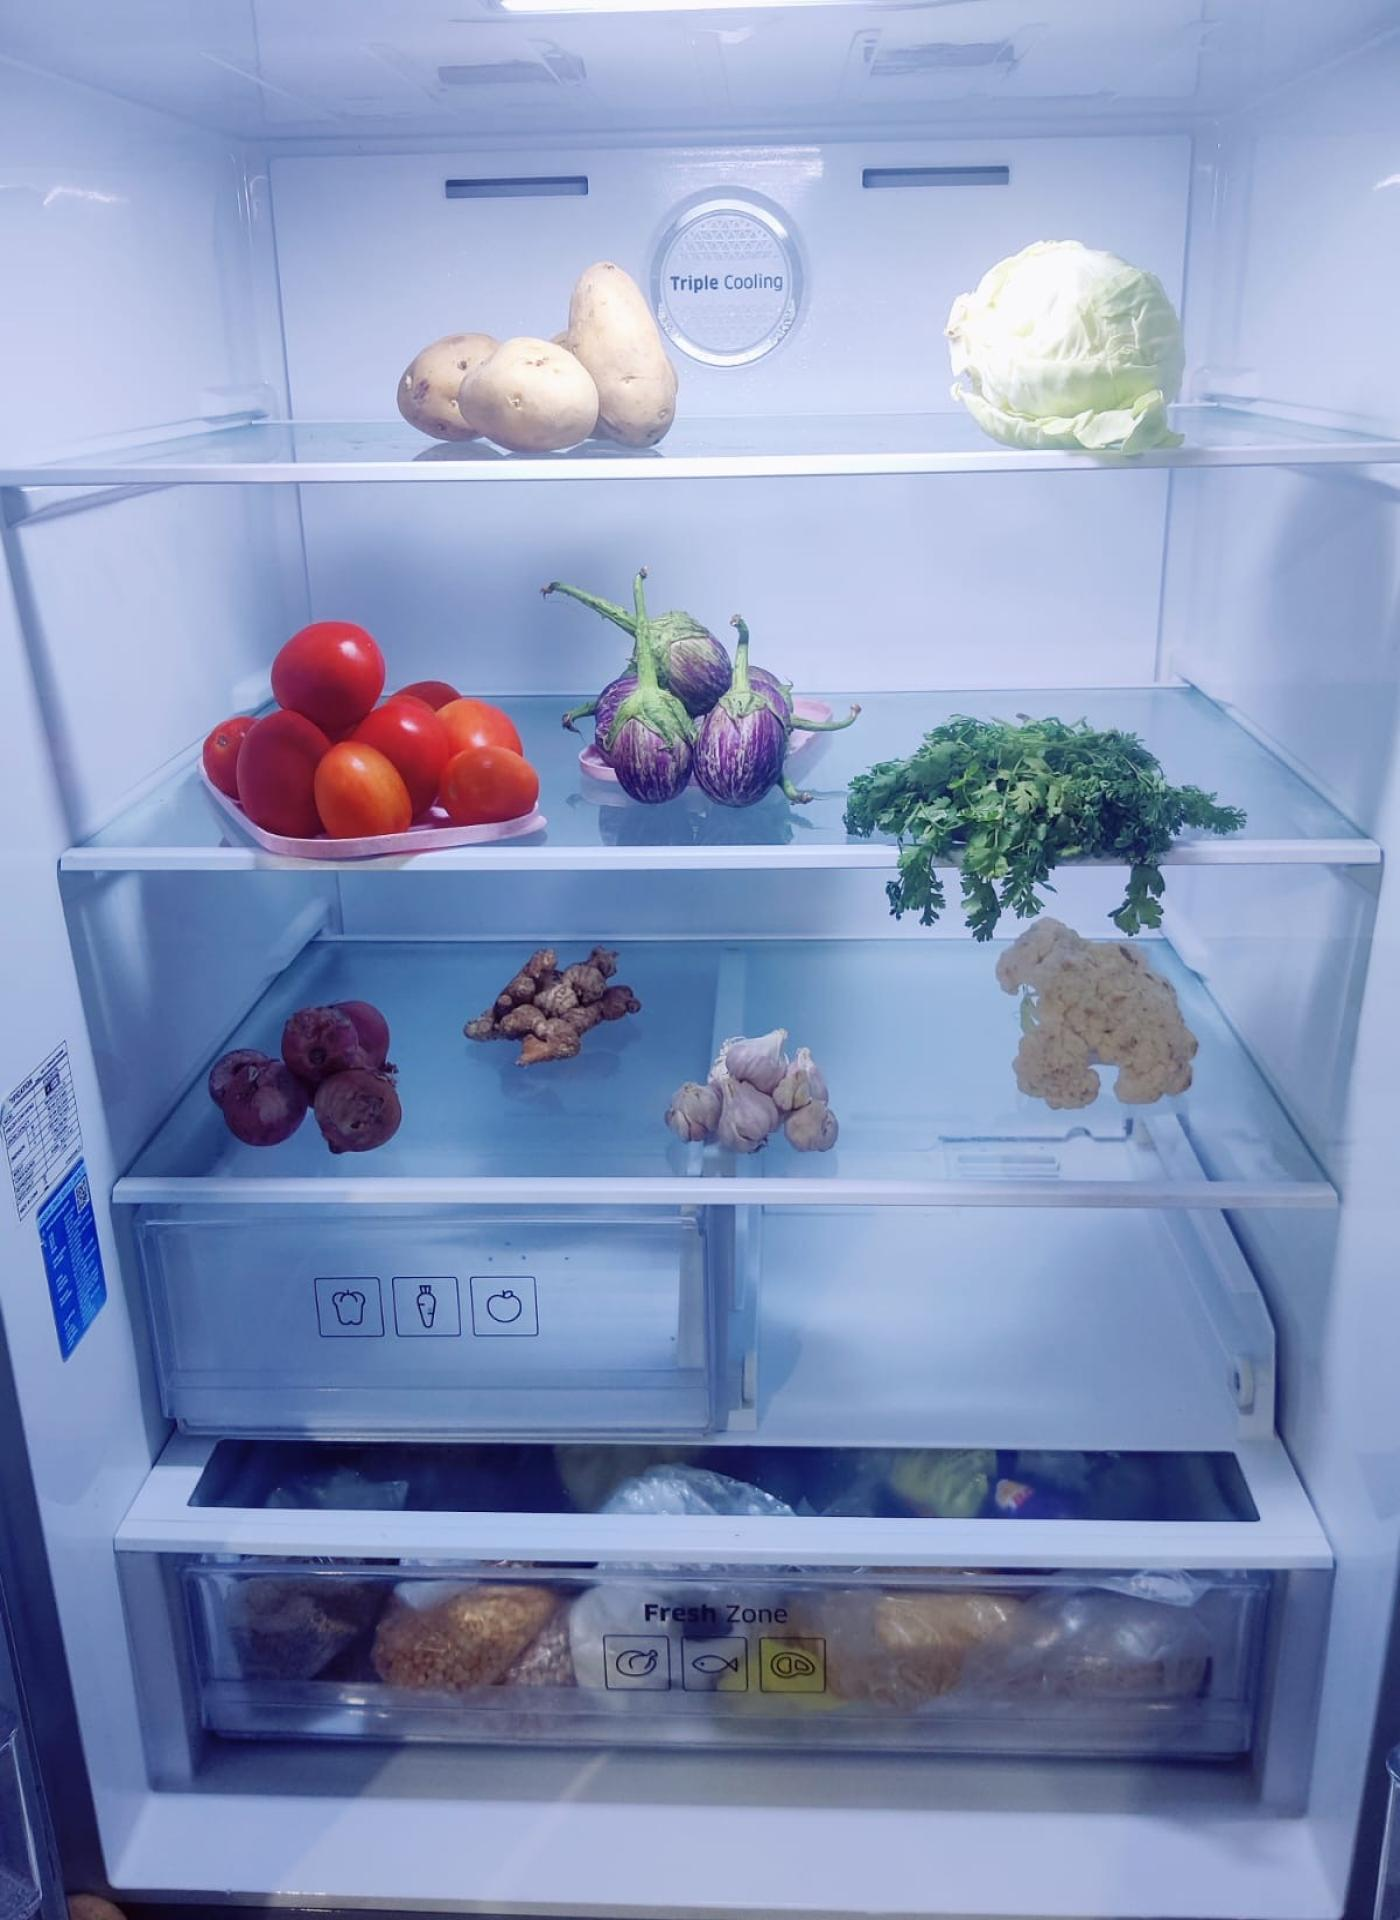brinjal: (593, 614, 801, 802)
cabbage: (948, 234, 1188, 440)
cauliflower: (1002, 923, 1199, 1109)
coriander: (857, 716, 1224, 896)
garlic: (672, 1024, 835, 1155)
ginger: (473, 941, 643, 1063)
onion: (204, 994, 407, 1148)
potato: (404, 265, 681, 452)
tomato: (206, 613, 535, 830)
